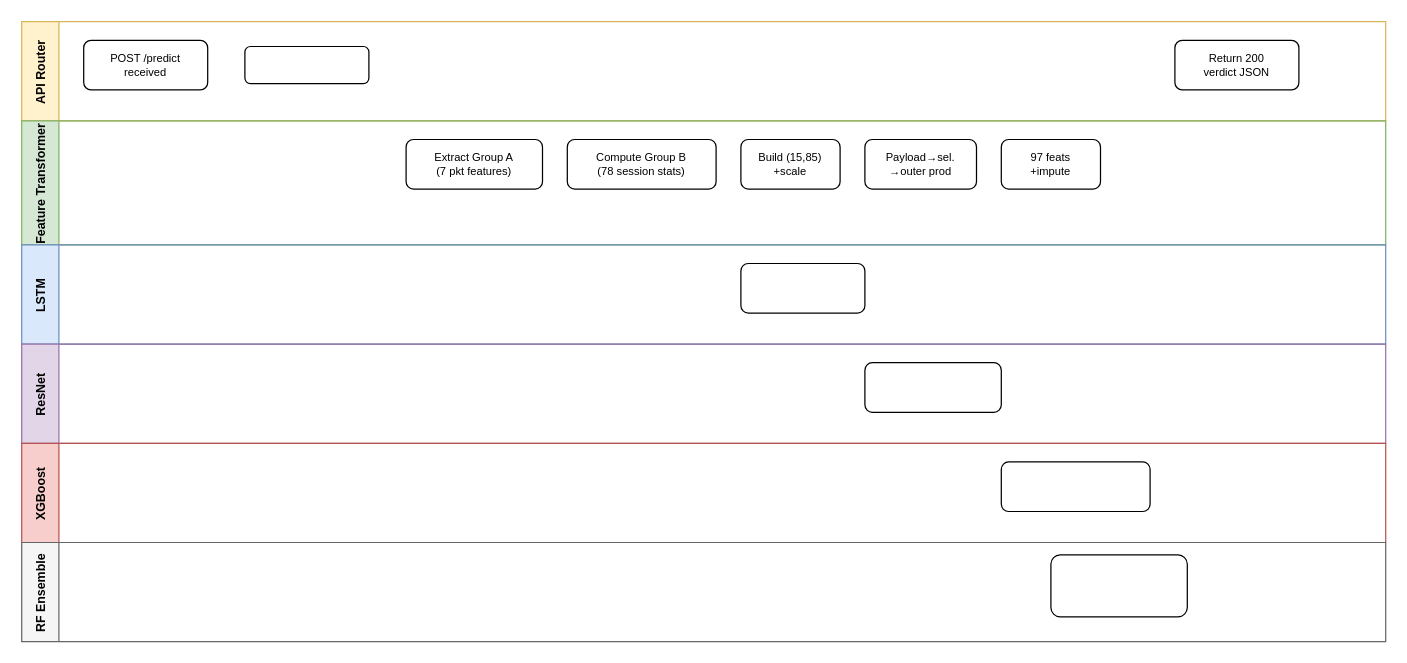
The diagram is 1407 pixels wide and 663 high, and some of its shapes have lost their labels. Here are the shapes that lost their labels. From the top down, the centre of each, then its label:
(x=306, y=64): Validate ≥3 pkts
(x=802, y=287): predict(X_lstm) → p_lstm(2,)
(x=932, y=386): predict(X_resnet) → p_resnet(2,)
(x=1075, y=486): predict_proba(X_xgb) → p_xgb(2,)
(x=1118, y=585): hstack(1,6) → predict_proba → verdict
